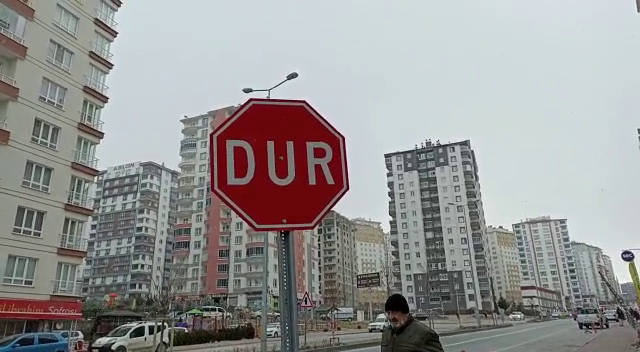stop: (206, 96, 353, 233)
